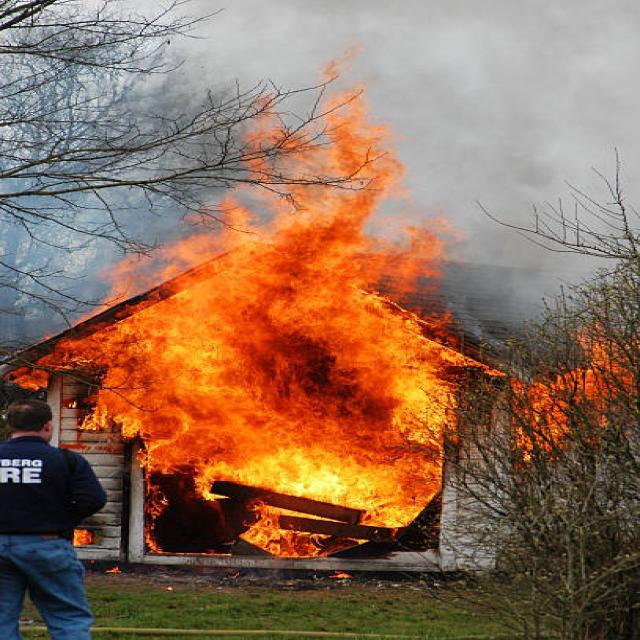Fire: (85, 214, 499, 544), (227, 102, 418, 290)
Smoke: (362, 34, 634, 351), (9, 54, 189, 318)
